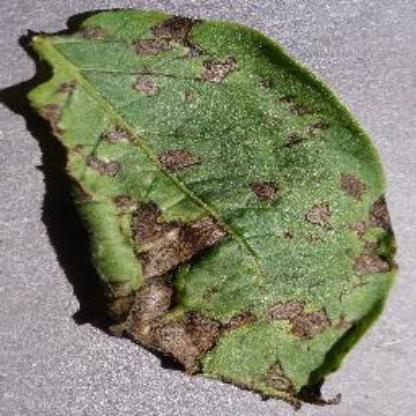Early-Blight: (24, 8, 400, 408)
